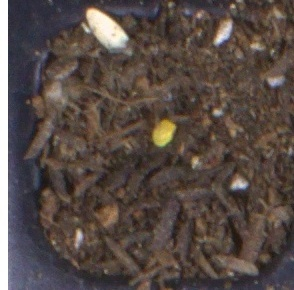chilli seed: (151, 119, 176, 148)
